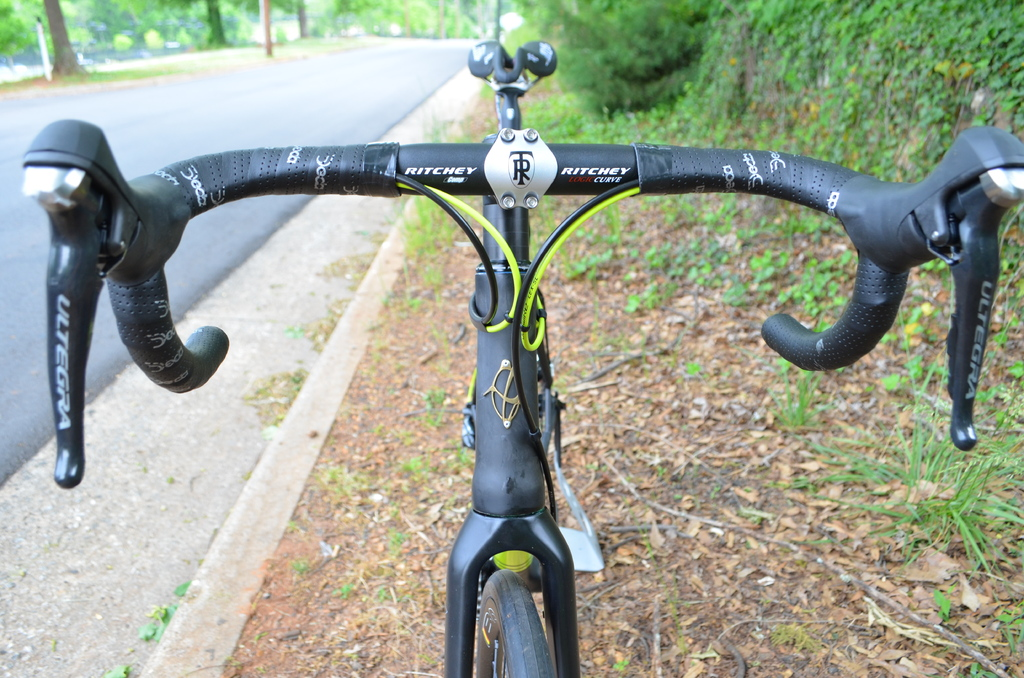Bicycle: (21, 29, 1023, 677)
